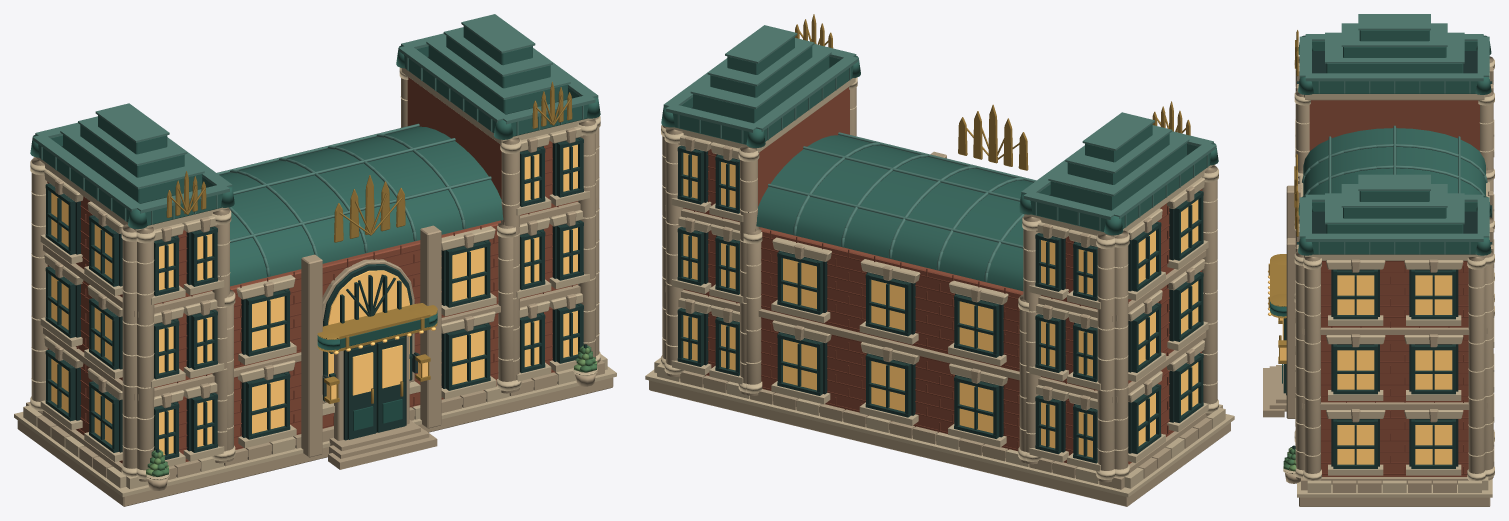
3 views of the same model, side by side, from view 1: azimuth 30°, elevation 25°; view 2: azimuth 150°, elevation 25°; view 3: azimuth 270°, elevation 25° (orthographic). The views are drawn at different scales.
Parts seen in each view (by area): view 1: expansion_finance_2_geometry; view 2: expansion_finance_2_geometry; view 3: expansion_finance_2_geometry.
Boxes of the visible parts, <box> form: expansion_finance_2_geometry: <box>14,14,616,506</box>; expansion_finance_2_geometry: <box>645,14,1234,506</box>; expansion_finance_2_geometry: <box>1263,14,1494,506</box>.
Size of the model in its own units: 2.26 by 1.45 by 1.02.
